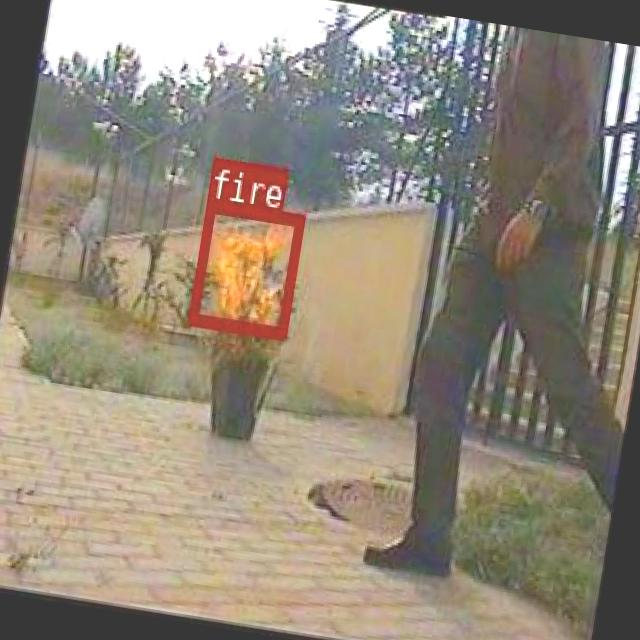fire: (188, 197, 305, 337)
